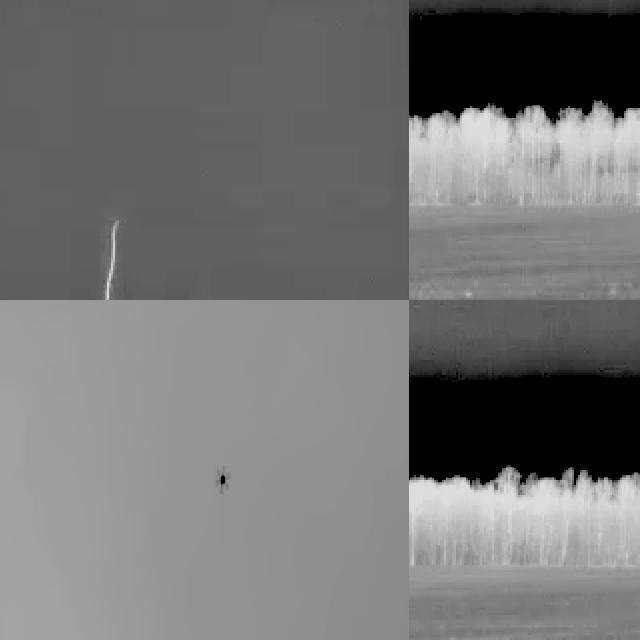drone: (208, 456, 236, 498)
